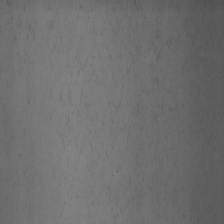silk_spot: (62, 2, 177, 150)
